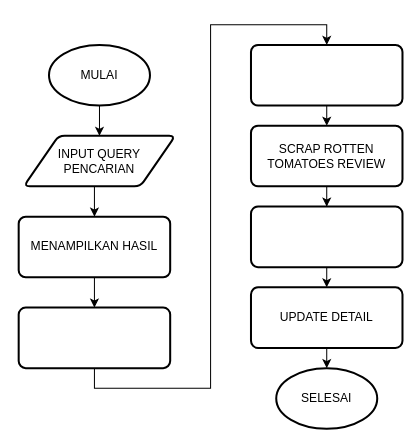
The diagram is 420 pixels wide and 447 high, and some of its shapes have lost their labels. Each missing label, with the centre of its shape:
"MENAMPILKAN DETAIL" goes at (94,337).
"REQUEST API GIPHY" goes at (326,236).
"REQUEST API IMDB" goes at (326,74).
